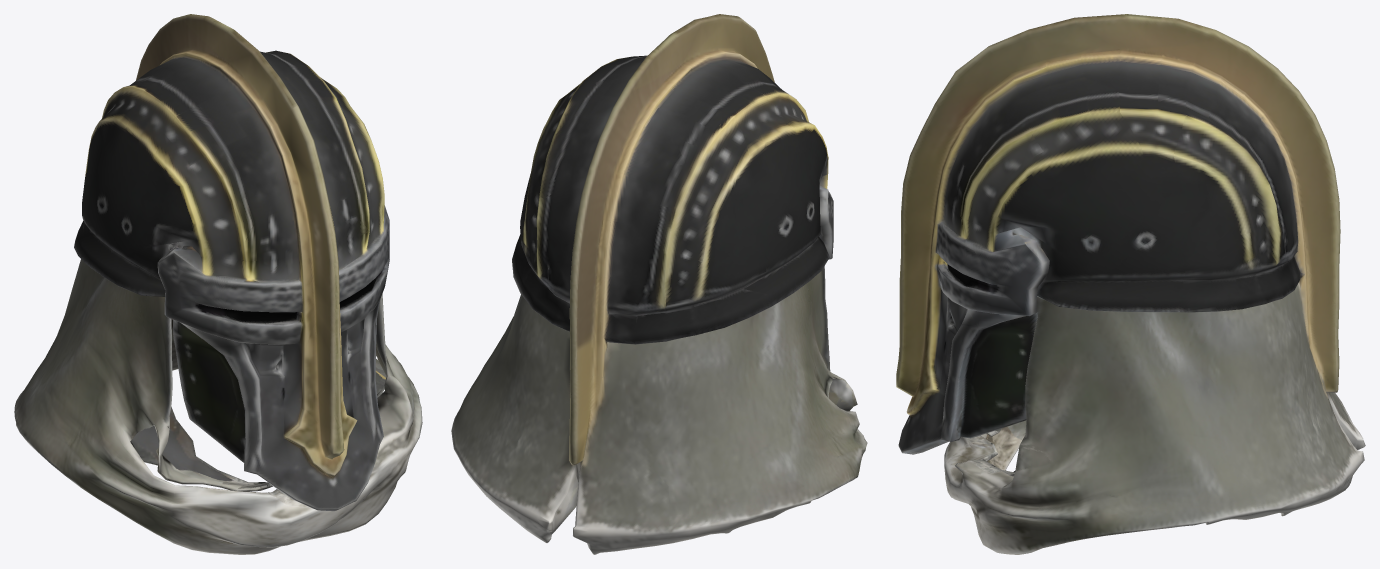
Rendered from Meshy_Model_Import0004.fbx.
The picture shows the model from 3 angles, left to right: view 1: azimuth 30°, elevation 25°; view 2: azimuth 150°, elevation 25°; view 3: azimuth 270°, elevation 25°; orthographic projection. The views are drawn at different scales.
Parts seen in each view (by area): view 1: Mesh_0; view 2: Mesh_0; view 3: Mesh_0.
Boxes of the visible parts, box(x1,y1,x2,y2) form: Mesh_0: box(14, 14, 422, 554); Mesh_0: box(451, 14, 867, 554); Mesh_0: box(896, 14, 1365, 554).
Size of the model in its own units: 151 by 191 by 161.
Materials: 1 (1 with a texture image).
